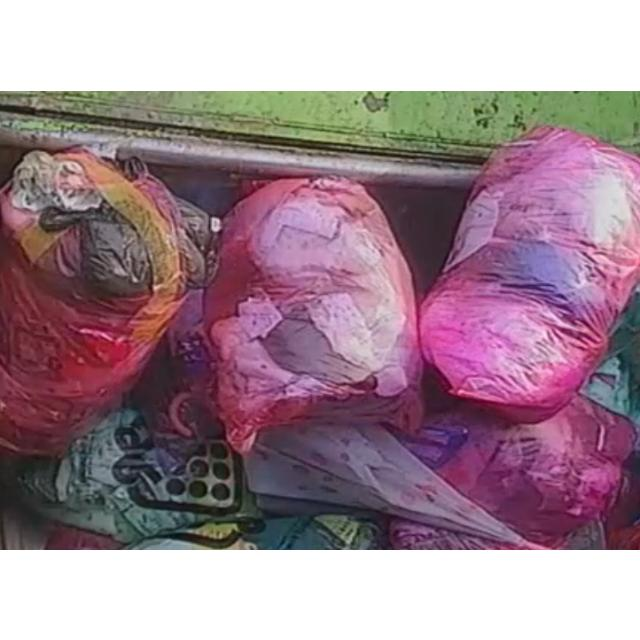general_trashbag: (19, 408, 262, 544)
other_trashbag: (419, 126, 640, 420), (0, 149, 211, 454), (204, 176, 421, 452), (402, 395, 636, 546)
